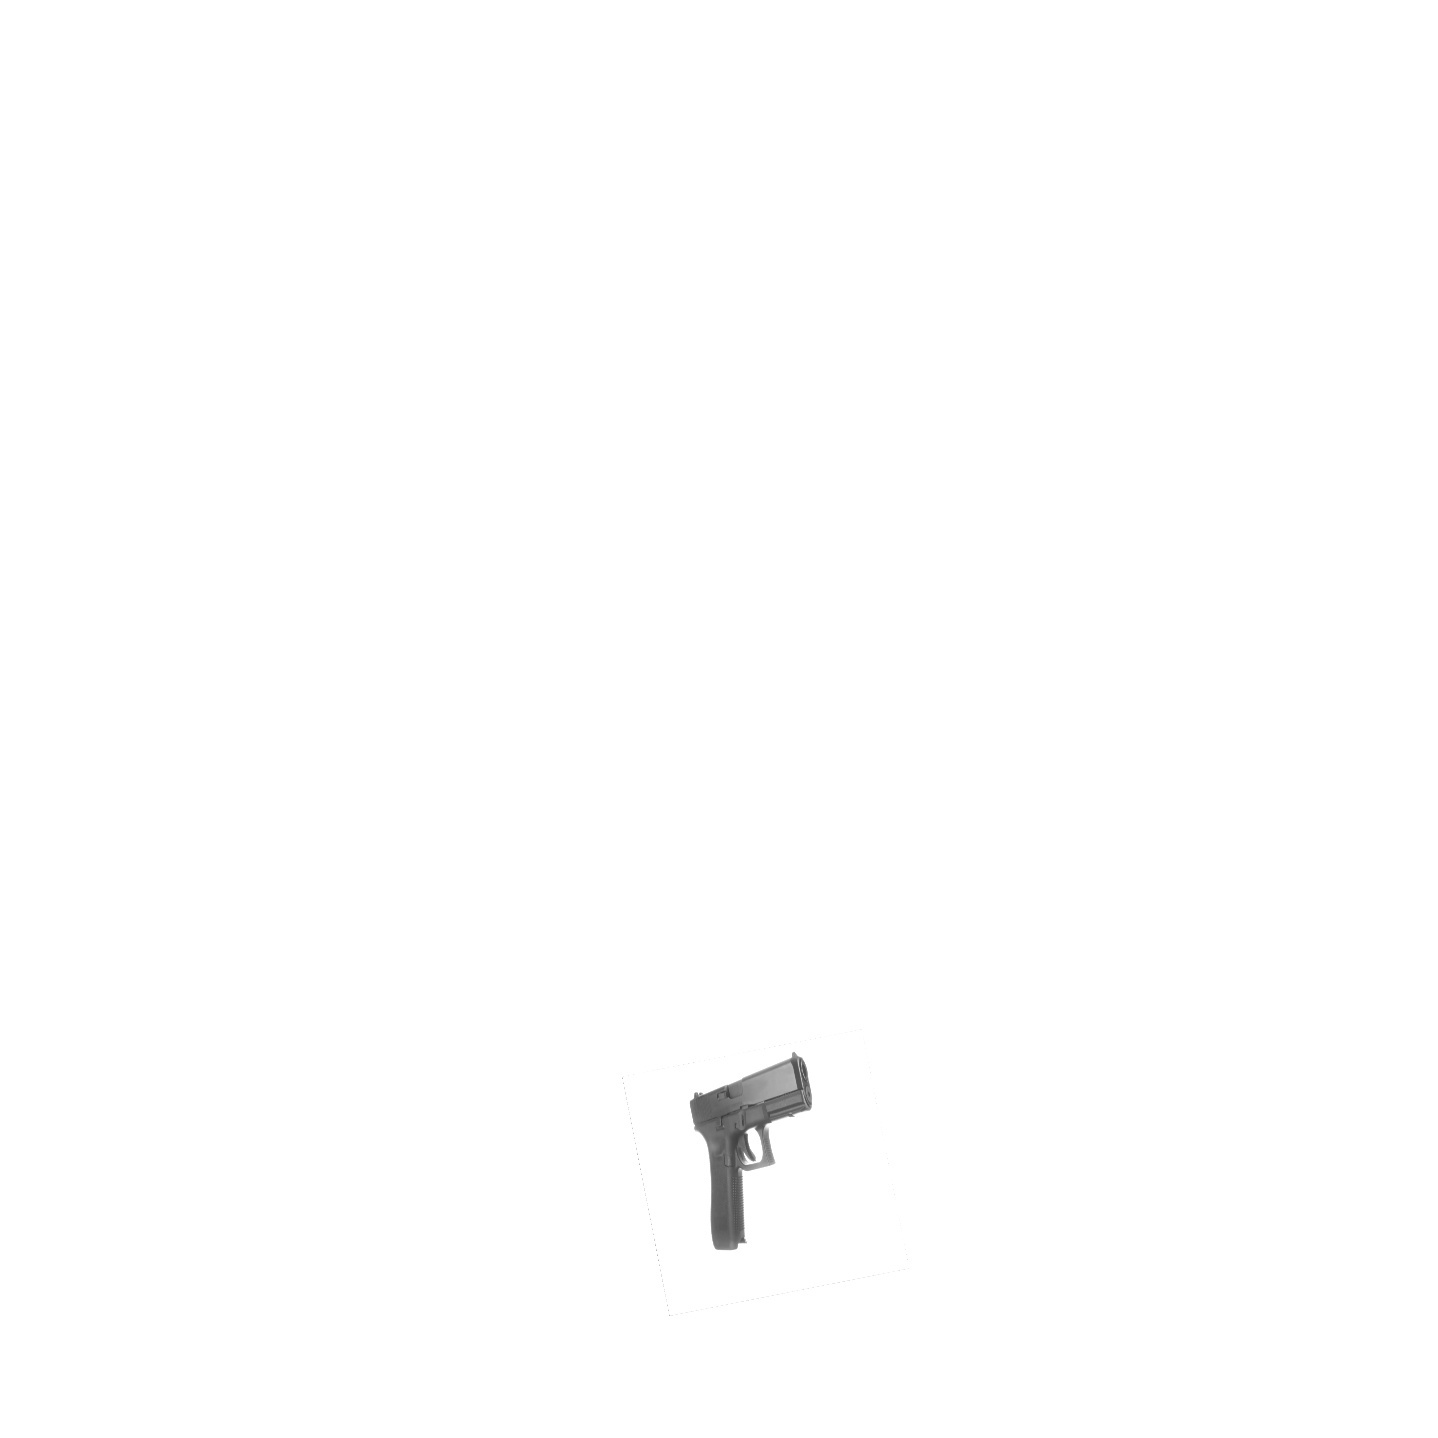gun: (679, 1053, 828, 1256)
